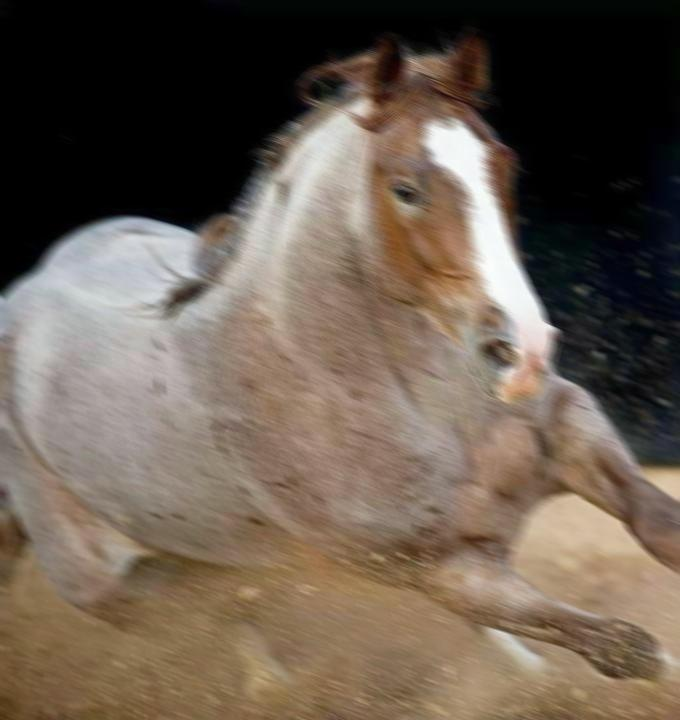horse: (0, 26, 680, 684)
